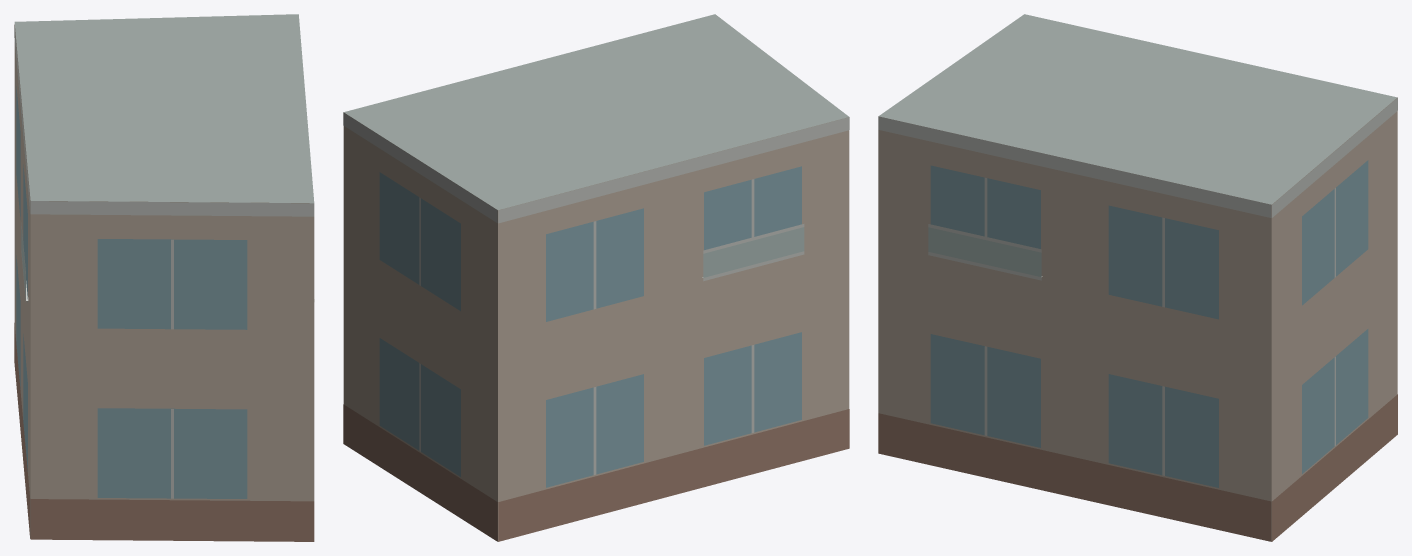
File: survey-upis-32814479.glb
The picture shows the model from 3 angles, left to right: view 1: azimuth 30°, elevation 25°; view 2: azimuth 150°, elevation 25°; view 3: azimuth 270°, elevation 25°; orthographic projection. The views are drawn at different scales.
Visible parts, largest first — view 1: survey-upis-32814479.tmp; view 2: survey-upis-32814479.tmp; view 3: survey-upis-32814479.tmp.
Boxes of the visible parts, box(x1,y1,x2,y2) form: survey-upis-32814479.tmp: box(14, 14, 314, 541); survey-upis-32814479.tmp: box(343, 14, 849, 541); survey-upis-32814479.tmp: box(878, 14, 1397, 541).
Bounding box in the file's own units: 7.41 × 6.1 × 8.53.
